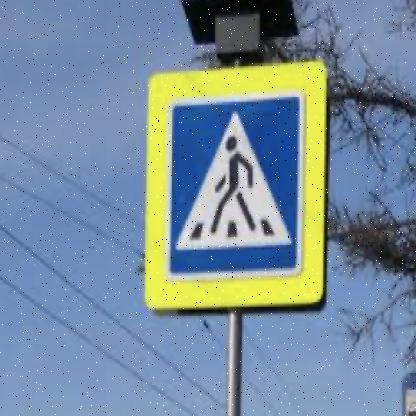Pedestrian Crossing: (173, 105, 296, 270)
